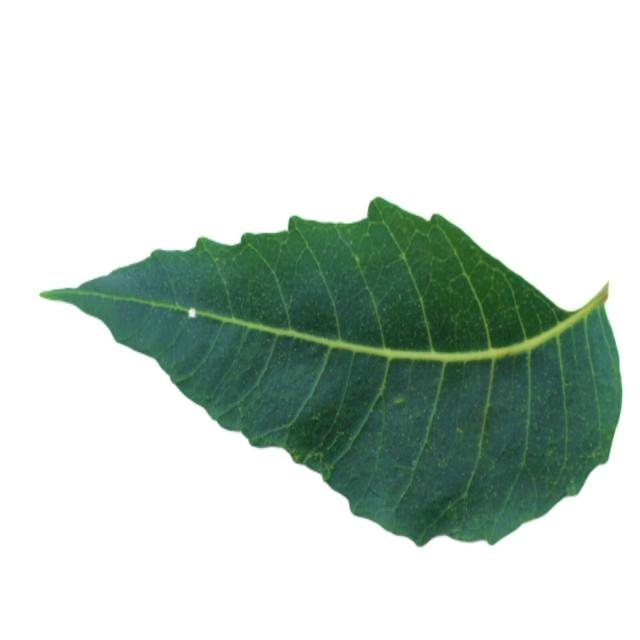Medicinal-Neem: (38, 200, 624, 548)
